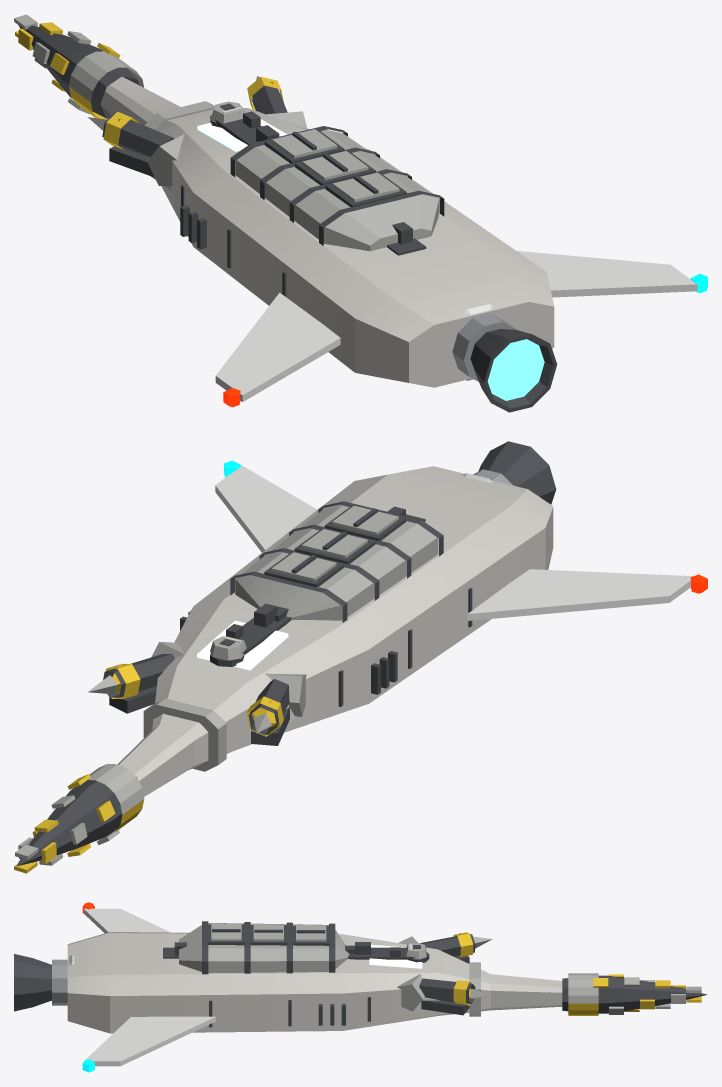
Rendered from prospector.glb.
3 views of the same model, one above another, from view 1: azimuth 30°, elevation 25°; view 2: azimuth 150°, elevation 25°; view 3: azimuth 270°, elevation 25° (orthographic). The views are drawn at different scales.
Parts seen in each view (by area): view 1: Hull, Rotor_CoreDrill, Turret_6; view 2: Hull, Rotor_CoreDrill, Turret_6; view 3: Hull, Rotor_CoreDrill, Turret_6.
Part boxes in pixels (box(x1,y1,x2,y2)): Hull: box(100, 76, 707, 412); Rotor_CoreDrill: box(14, 14, 144, 119); Turret_6: box(210, 101, 245, 127); Hull: box(103, 441, 707, 796); Rotor_CoreDrill: box(14, 764, 144, 873); Turret_6: box(210, 636, 246, 666); Hull: box(14, 902, 562, 1072); Rotor_CoreDrill: box(562, 973, 707, 1015); Turret_6: box(406, 943, 429, 962).
Size of the model in its own units: 1.1 by 0.2933 by 2.
